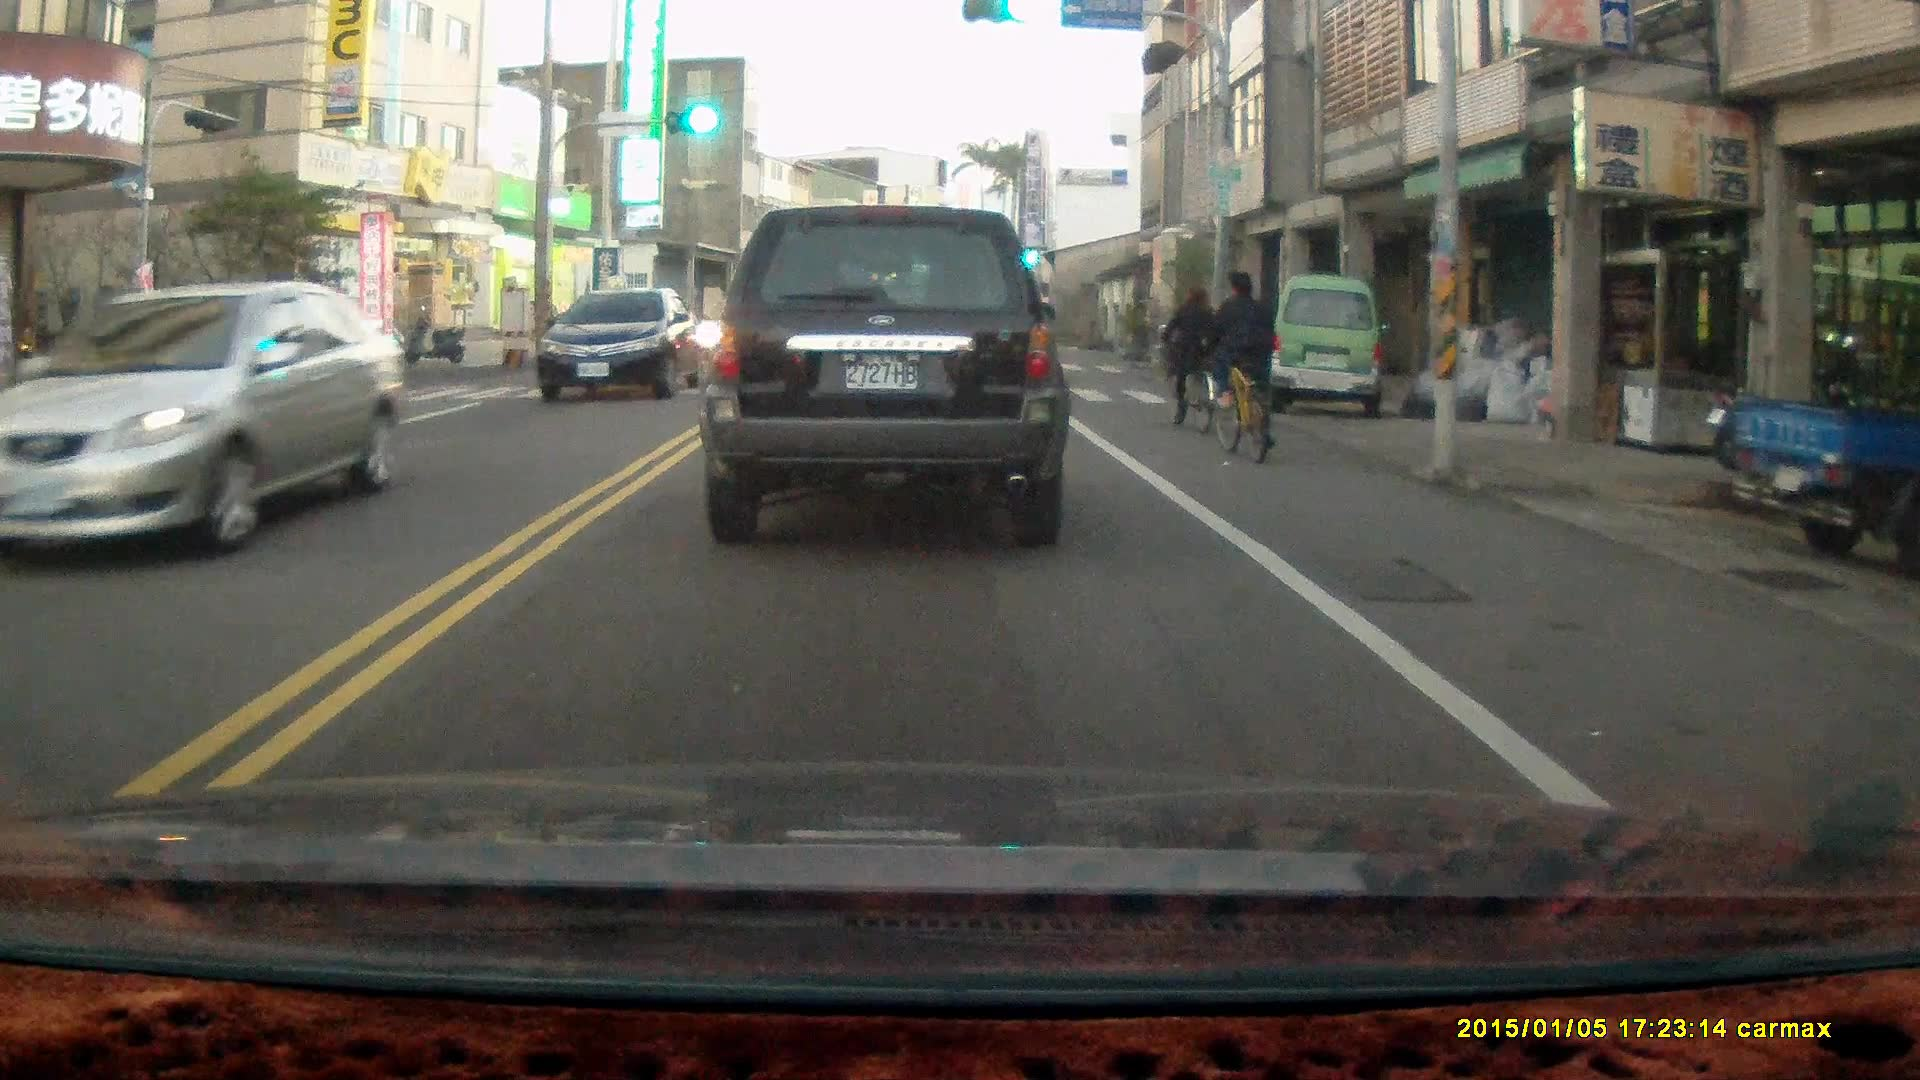rider: (1198, 266, 1274, 462), (1155, 278, 1221, 437)
vehicle: (704, 202, 1070, 543), (1, 283, 420, 567), (536, 285, 706, 407), (1269, 273, 1386, 423)
